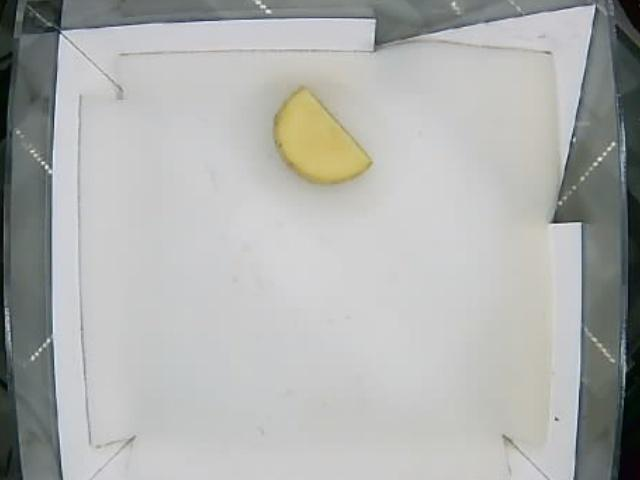Potato: (271, 88, 376, 182)
